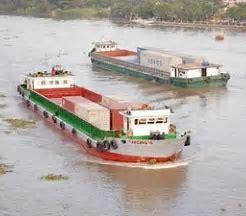Ship: (14, 68, 192, 173), (87, 38, 232, 90)
